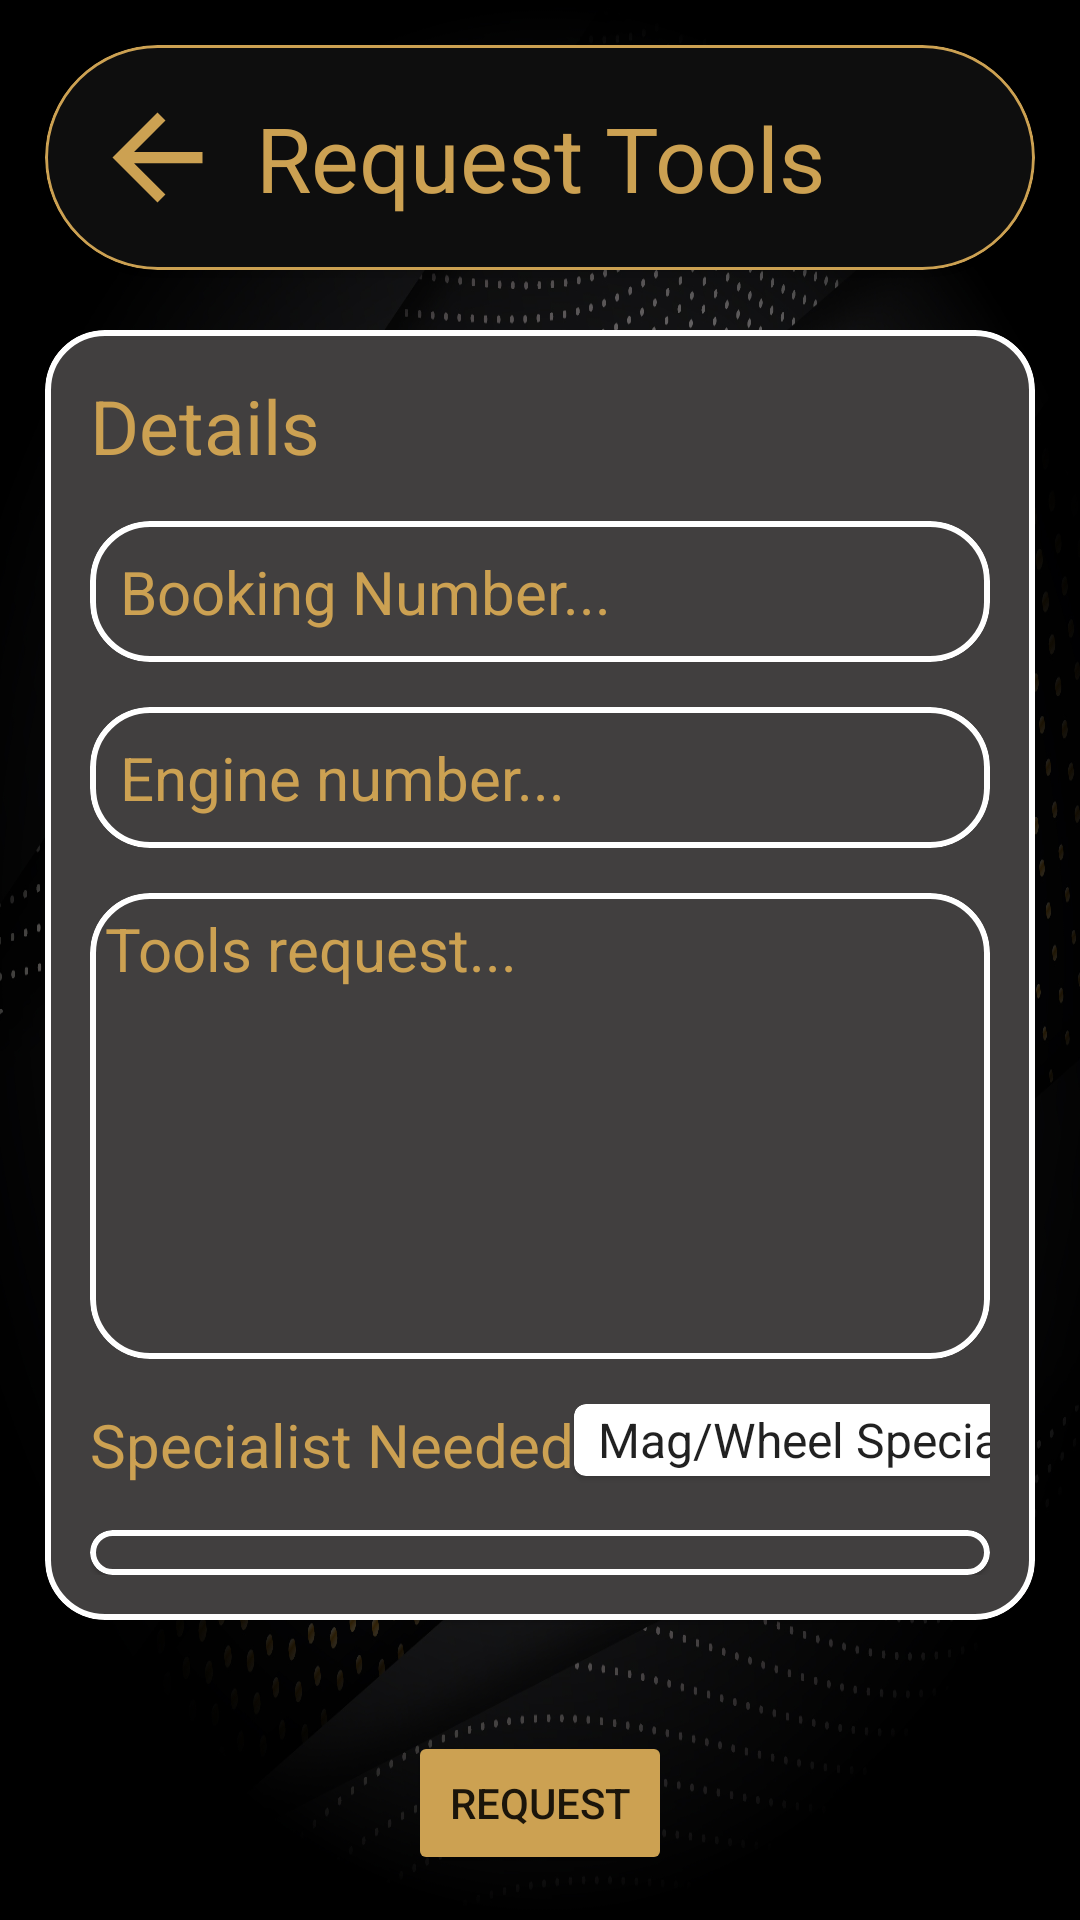

Named icons in this screenshot (1080w x 1920h) and their bounding boxes, [left=x1, top=y1, right=x2, bottom=y2]:
arrow back: [left=112, top=112, right=203, bottom=203]
